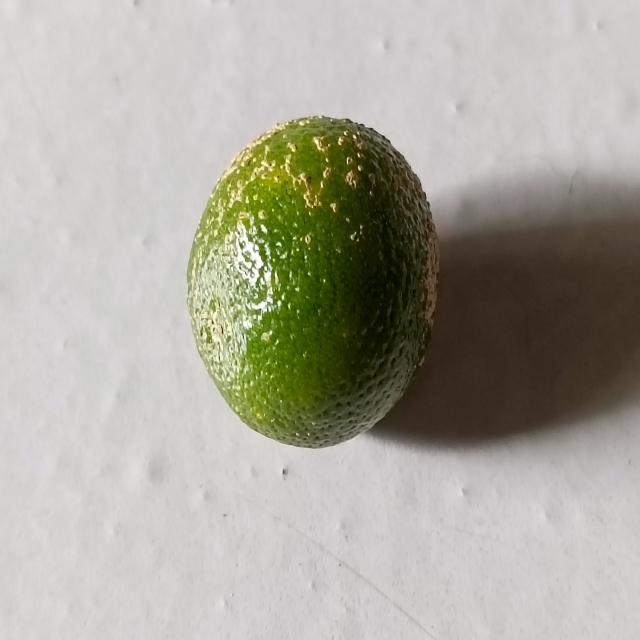scab: (179, 101, 442, 463)
